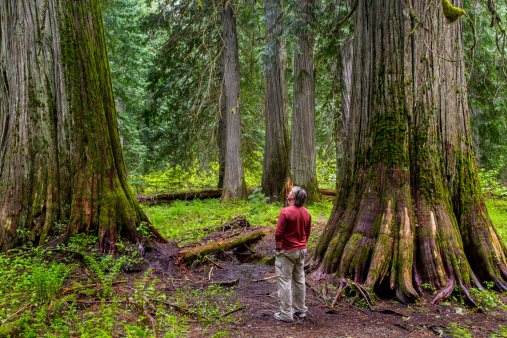em pe: (268, 180, 312, 314)
